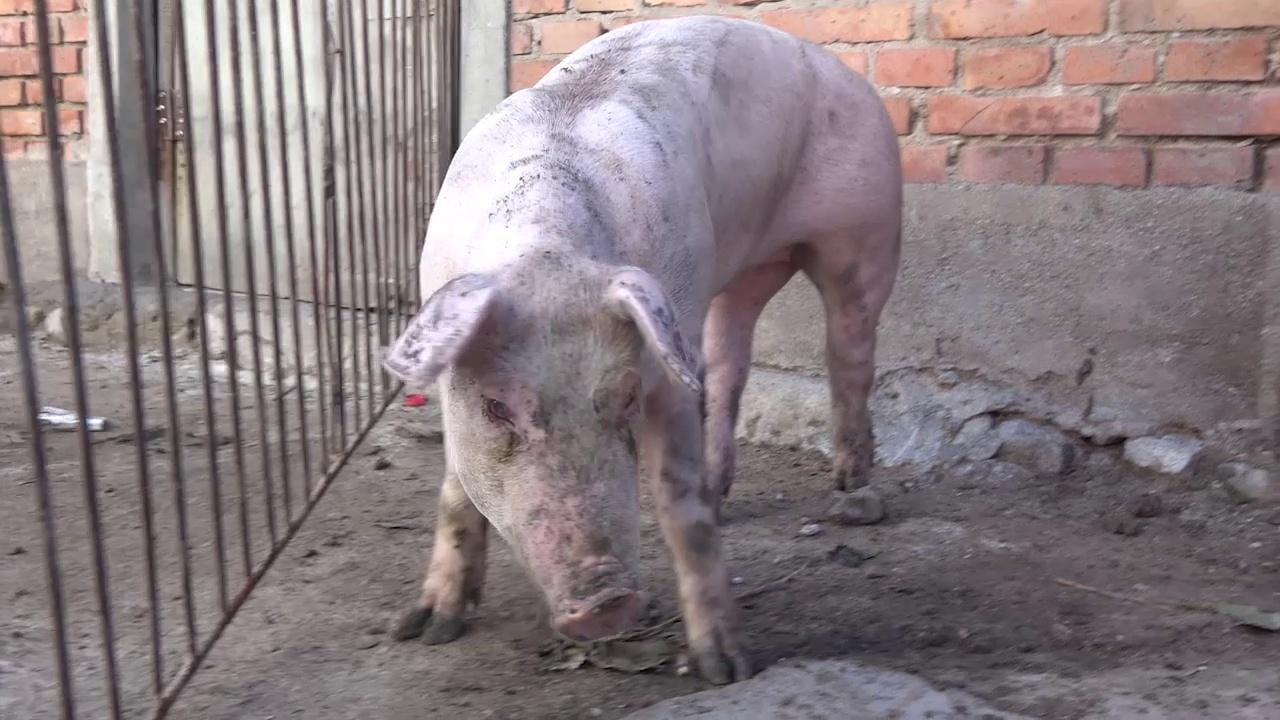Face: (377, 262, 717, 657)
